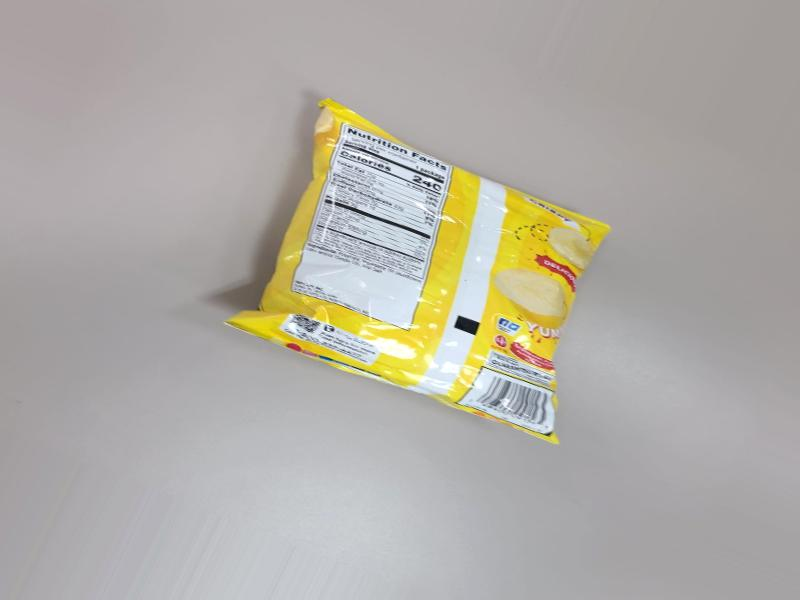lays: (231, 104, 596, 451)
